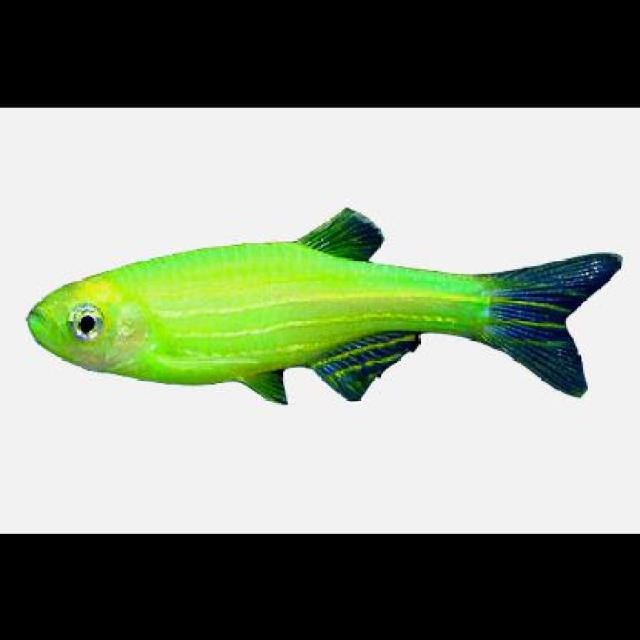ZebraFish: (34, 213, 621, 396)
